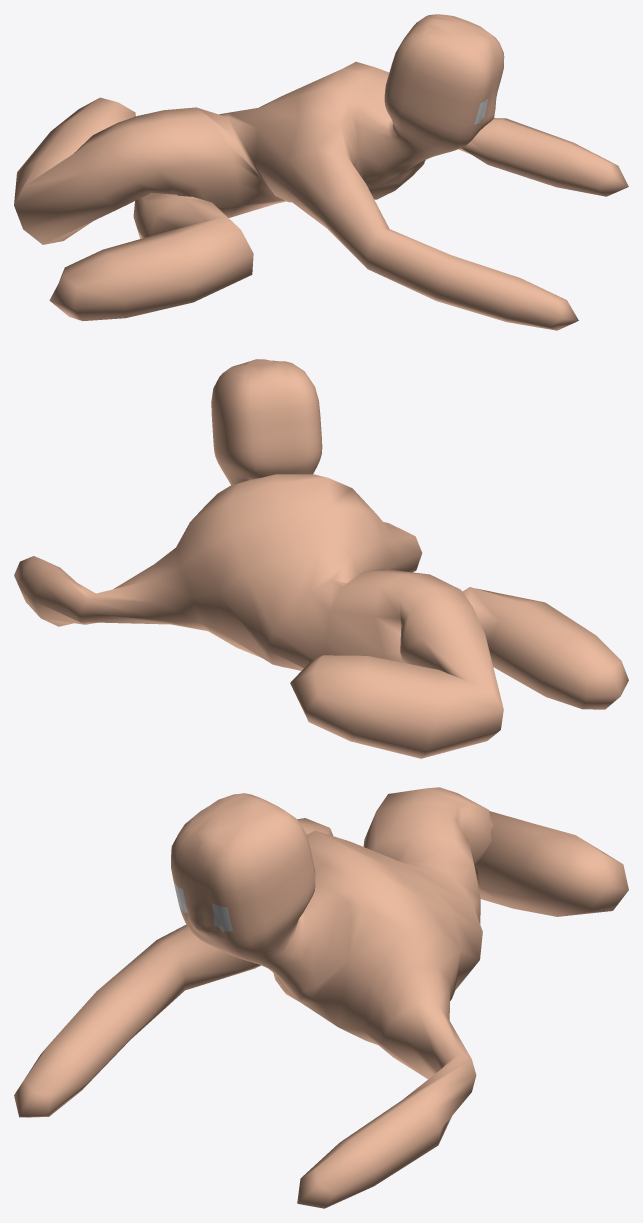
Rendered from Bloc Destructible Cage Humain 4.fbx.
The picture shows the model from 3 angles, top to bottom: view 1: azimuth 30°, elevation 25°; view 2: azimuth 150°, elevation 25°; view 3: azimuth 270°, elevation 25°; orthographic projection. The views are drawn at different scales.
Visible parts, largest first — view 1: corps; view 2: corps; view 3: corps.
Boxes of the visible parts, box(x1,y1,x2,y2) form: corps: box(14, 14, 628, 330); corps: box(14, 359, 628, 758); corps: box(14, 787, 628, 1208).
Bounding box in the file's own units: 224 × 93.07 × 173.
